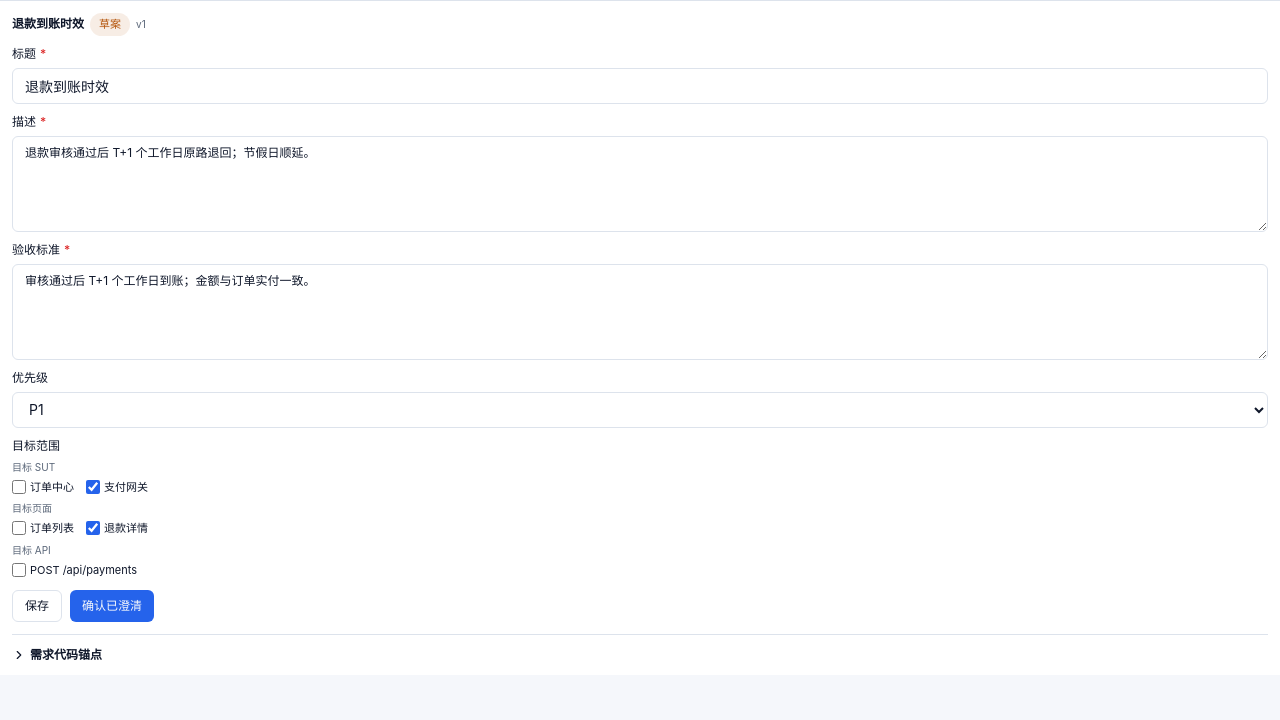
it: RequirementEditor › confirms the requirement and freezes the draft
Click the button with test id "editor-confirm".
click(112, 606)  # box [70,590,154,622]
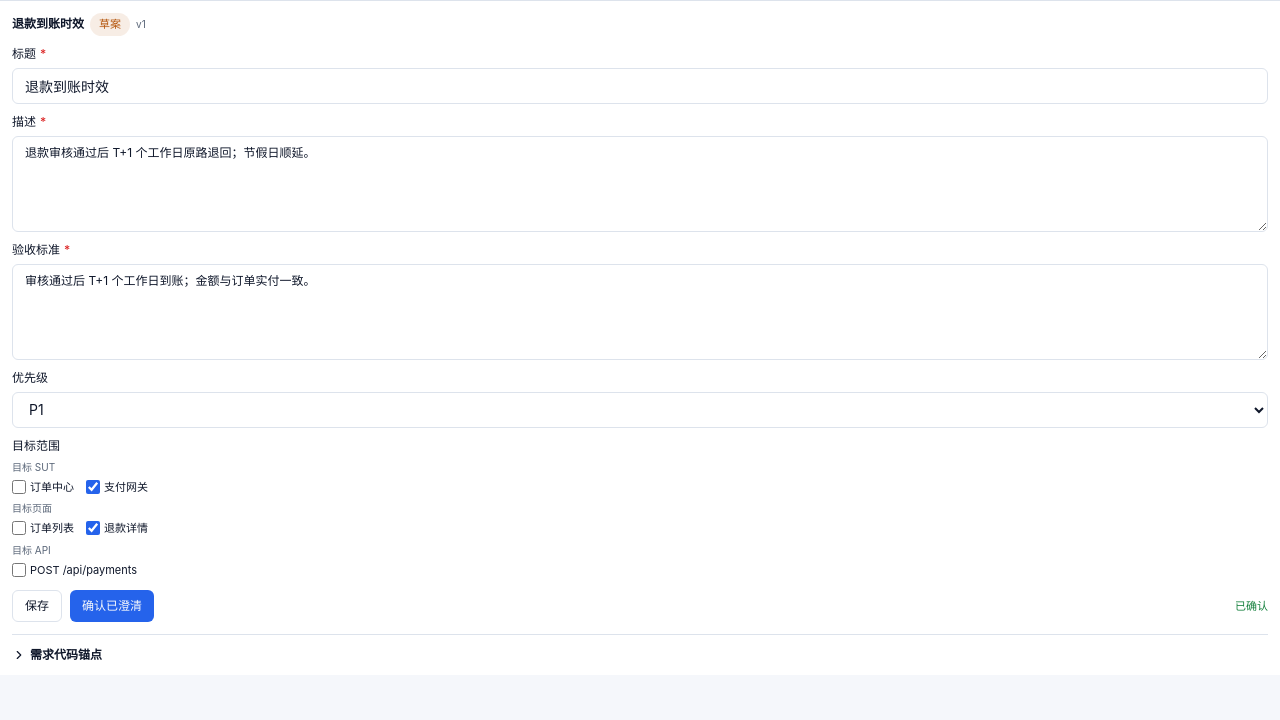
Expected: the message reads "已确认", [1235,599,1268,613]
